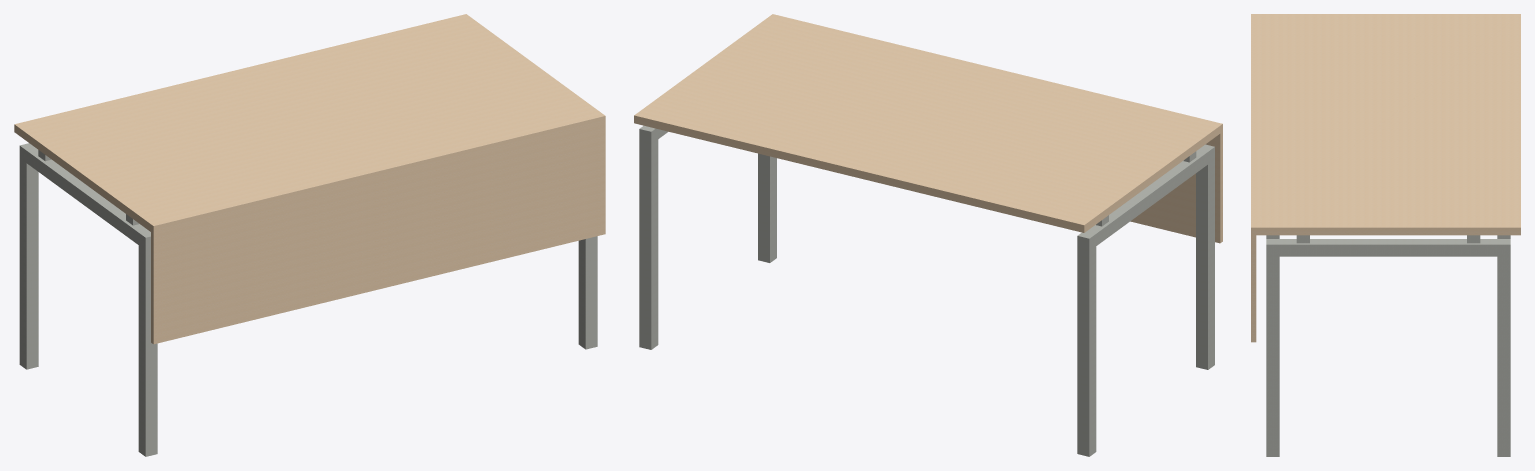
The model's file is table.gltf.
The picture shows the model from 3 angles, left to right: view 1: azimuth 30°, elevation 25°; view 2: azimuth 150°, elevation 25°; view 3: azimuth 270°, elevation 25°; orthographic projection. The views are drawn at different scales.
Visible parts, largest first — view 1: TableTop, TableLeg (×2); view 2: TableTop, TableLeg (×2); view 3: TableTop, TableLeg.
Boxes of the visible parts, x1,y1,x2,y2 form: TableTop: (14,14,605,344); TableLeg (×2): (19,143,597,456); TableTop: (634,14,1222,243); TableLeg (×2): (639,125,1214,456); TableTop: (1251,14,1520,342); TableLeg: (1266,235,1510,456).
Size of the model in its own units: 1.5 by 0.75 by 0.8.
2 materials, 2 textured.
